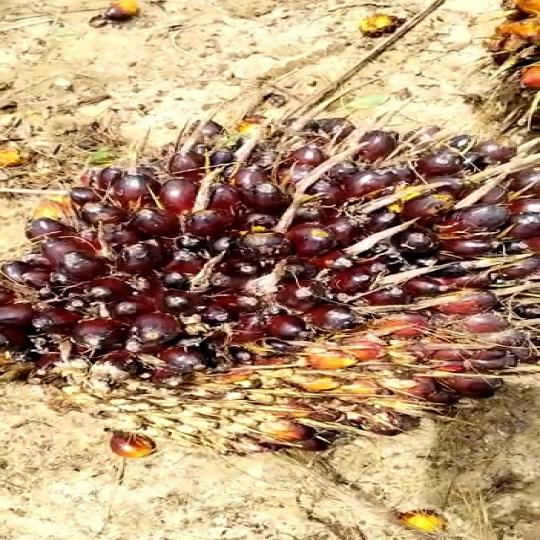mentah: (4, 107, 540, 462)
